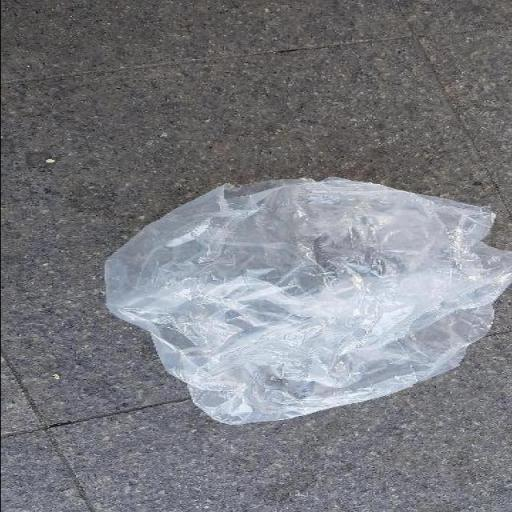plastic-bag: (99, 174, 512, 426)
